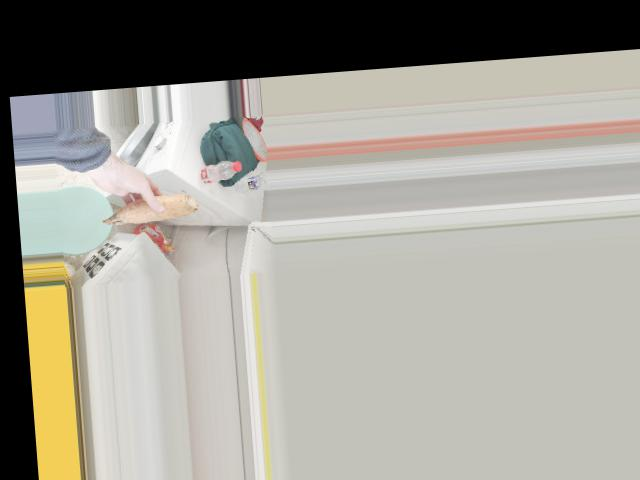sweet_potato: (98, 185, 204, 232)
